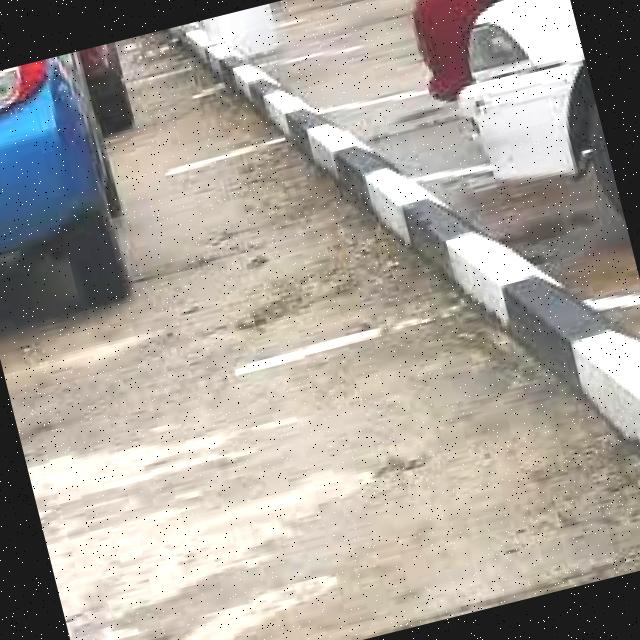curb: (161, 27, 640, 447)
